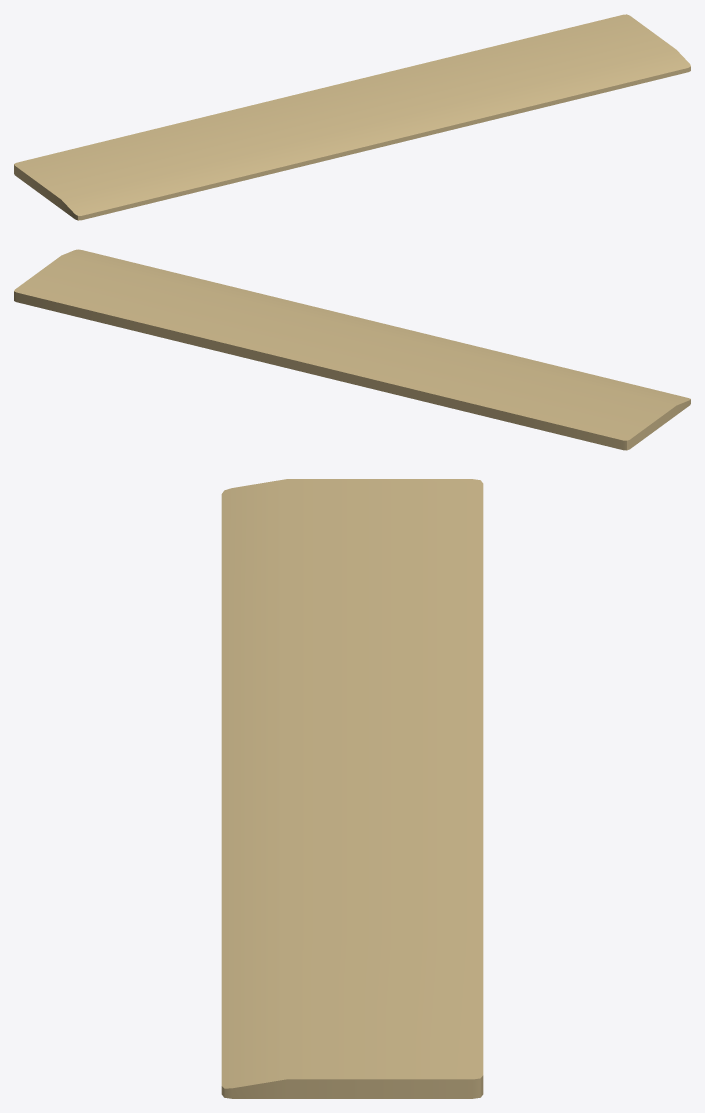
Rendered from ruler.fbx.
The picture shows the model from 3 angles, top to bottom: view 1: azimuth 30°, elevation 25°; view 2: azimuth 150°, elevation 25°; view 3: azimuth 270°, elevation 25°; orthographic projection. The views are drawn at different scales.
Visible parts, largest first — view 1: Box001; view 2: Box001; view 3: Box001.
Part boxes in pixels (box(x1,y1,x2,y2)): Box001: box(14, 14, 690, 220); Box001: box(14, 249, 690, 450); Box001: box(221, 479, 483, 1098).
Bounding box in the file's own units: 511 × 7.69 × 93.93.
Materials: 1 (1 with a texture image).
